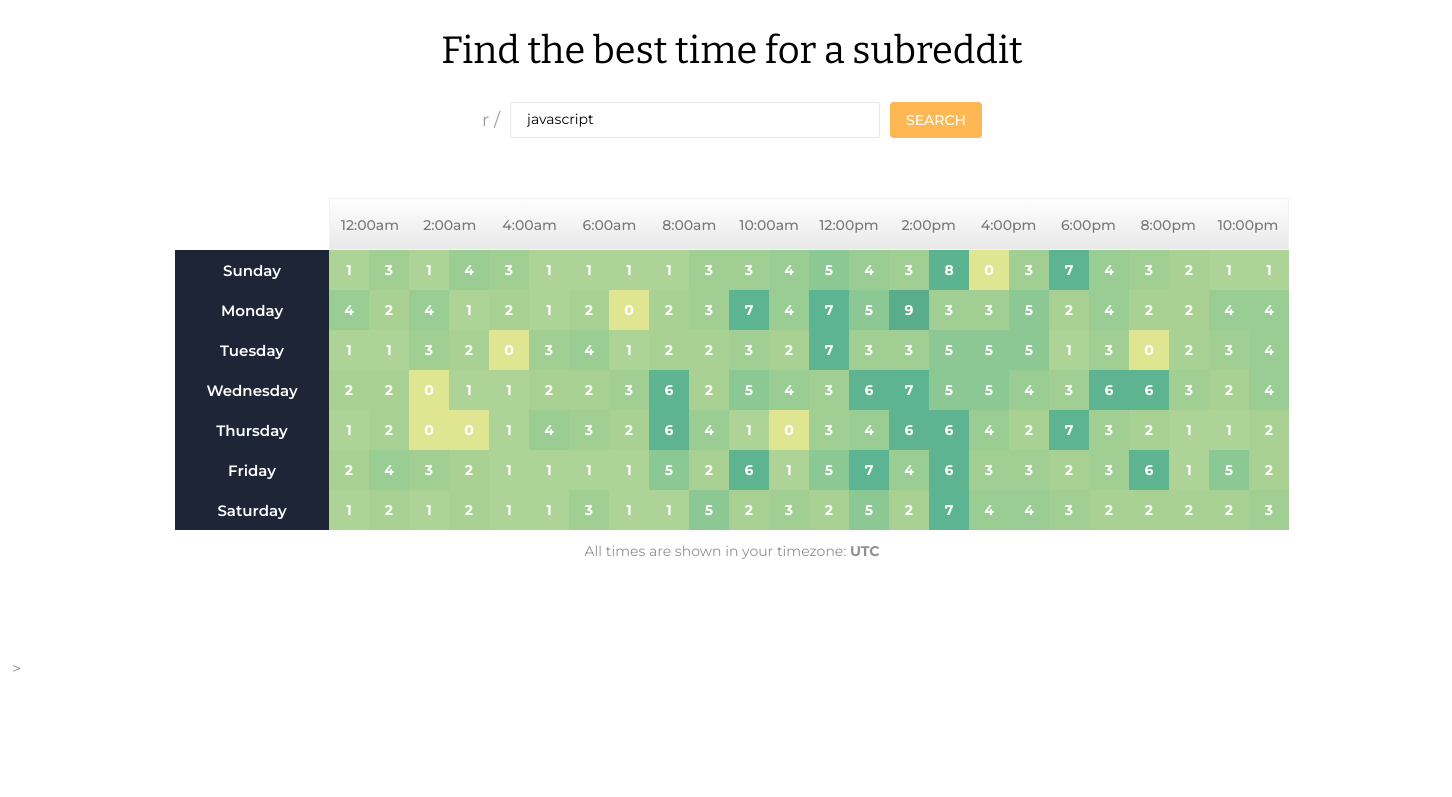
it: Should show table when box clicked
Click the text with test id "box-0-0": (349, 270) left=329, top=250, right=369, bottom=290
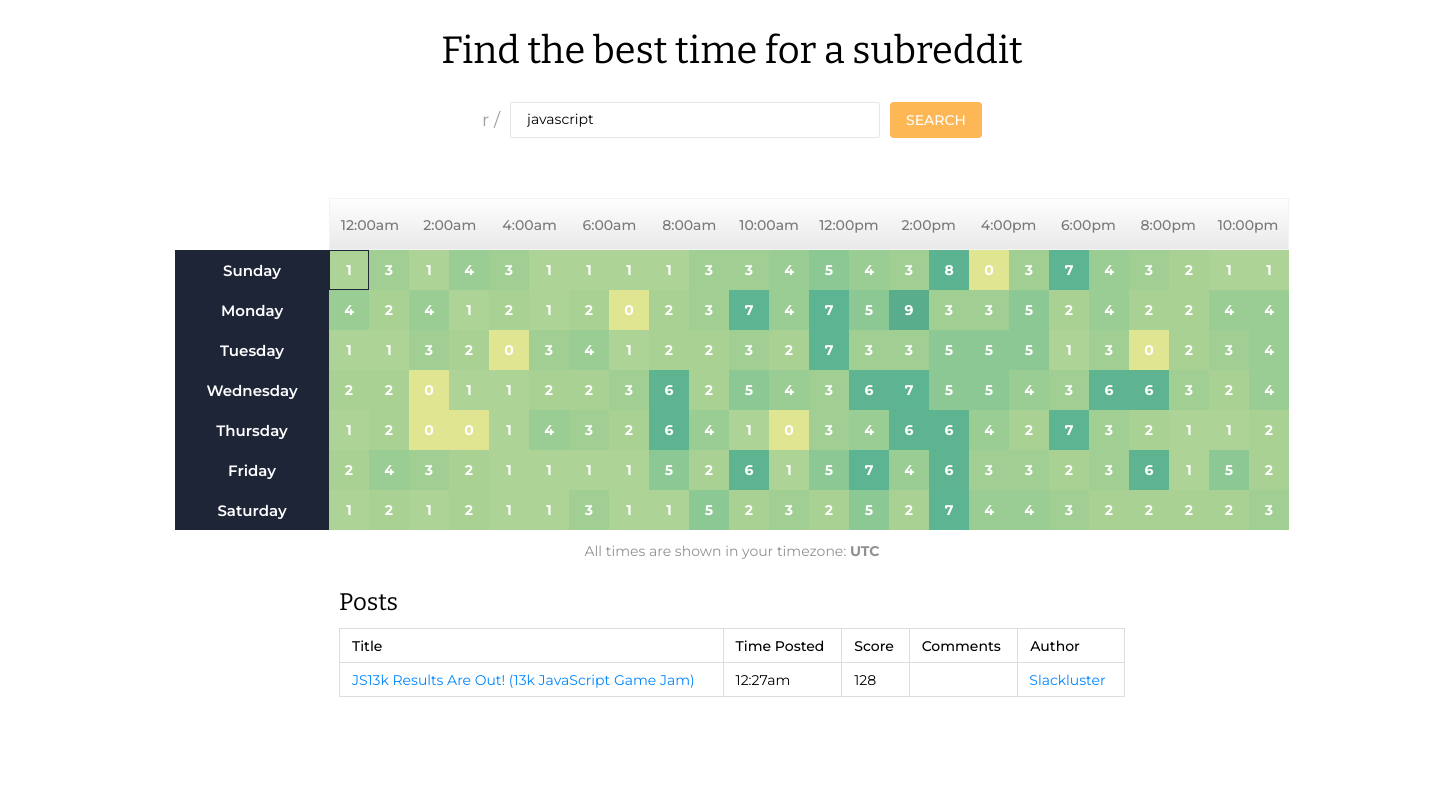
Expected: the element with test id "table" shows "JS13k Results", left=352, top=671, right=695, bottom=689
